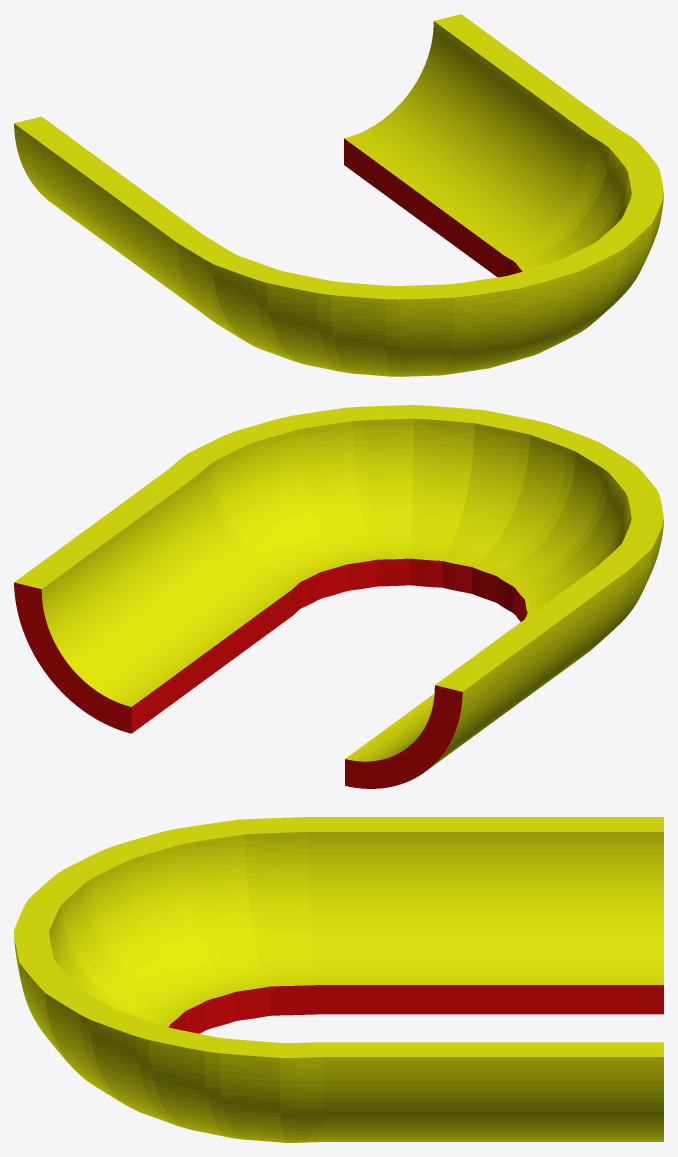
File: WaterShape_SkateRamp_009.fbx
3 renders of one model, top to bottom at view 1: azimuth 30°, elevation 25°; view 2: azimuth 150°, elevation 25°; view 3: azimuth 270°, elevation 25°, orthographic. The views are drawn at different scales.
Parts seen in each view (by area): view 1: Cube.017; view 2: Cube.017; view 3: Cube.017.
Boxes of the visible parts, x1,y1,x2,y2 form: Cube.017: (14,14,663,376); Cube.017: (14,405,663,788); Cube.017: (14,817,663,1142).
Bounding box in the file's own units: 1195 × 311 × 1362.
